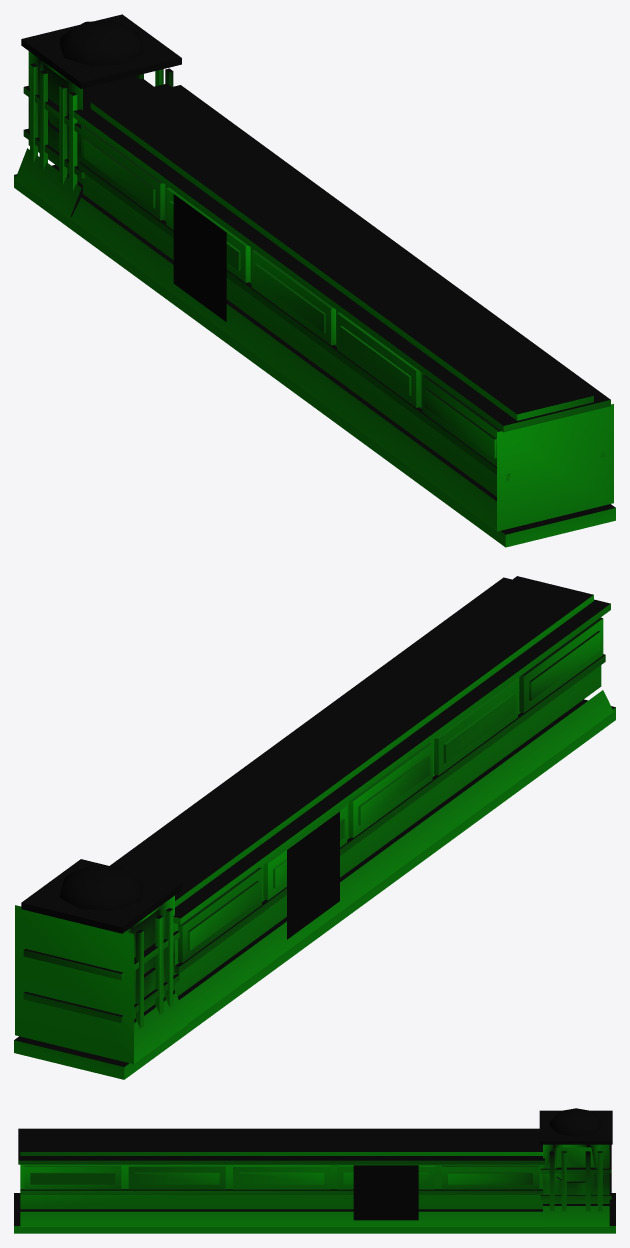
File: d_lightwall.glb
3 views of the same model, one above another, from view 1: azimuth 30°, elevation 25°; view 2: azimuth 150°, elevation 25°; view 3: azimuth 270°, elevation 25° (orthographic). The views are drawn at different scales.
Parts seen in each view (by area): view 1: lod0; view 2: lod0; view 3: lod0.
Boxes of the visible parts, x1,y1,x2,y2 form: lod0: (14,14,615,547); lod0: (14,576,615,1079); lod0: (14,1108,615,1233).
Size of what is drawn, in the model's own units: 3.88 by 5.36 by 27.79.
